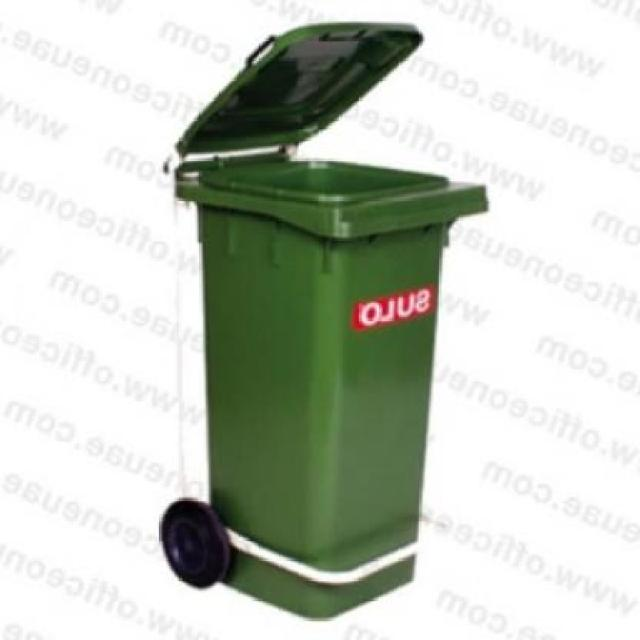garbage container: (146, 9, 500, 628)
